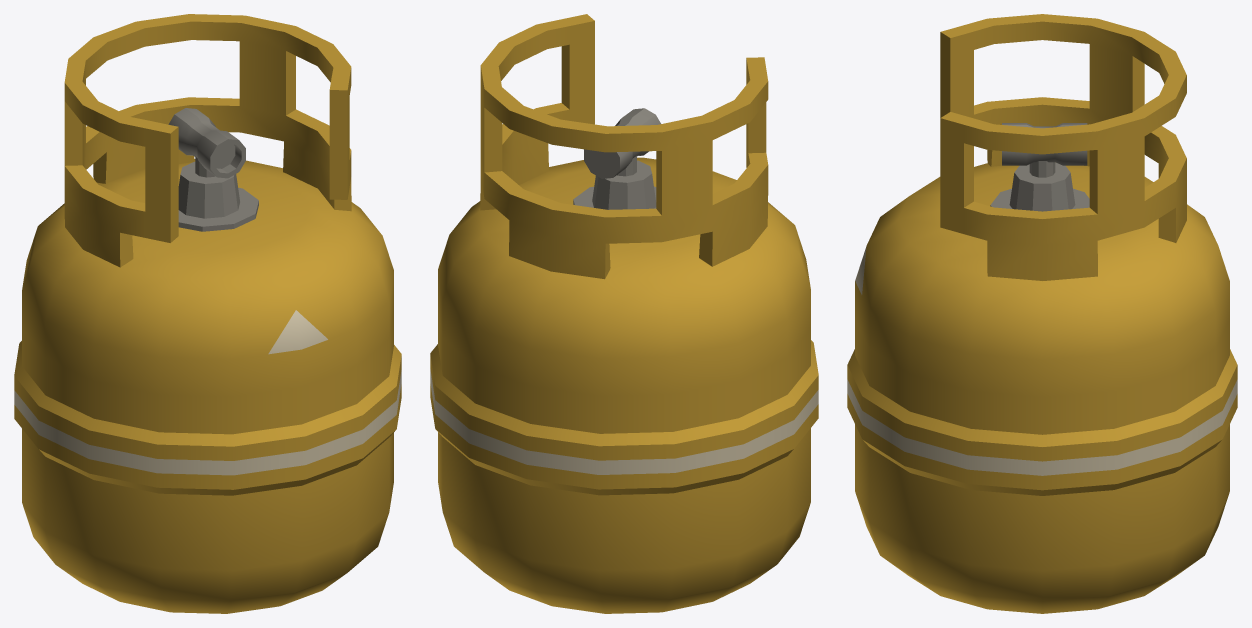
File: cc0-gas-tank-lod0.glb
The picture shows the model from 3 angles, left to right: view 1: azimuth 30°, elevation 25°; view 2: azimuth 150°, elevation 25°; view 3: azimuth 270°, elevation 25°; orthographic projection.
Visible parts, largest first — view 1: part_0; view 2: part_0; view 3: part_0.
Part boxes in pixels (box(x1,y1,x2,y2)): part_0: box(14, 14, 401, 613); part_0: box(430, 14, 818, 613); part_0: box(847, 14, 1237, 613).
Size of the model in its own units: 1.01 by 1.39 by 1.01.
